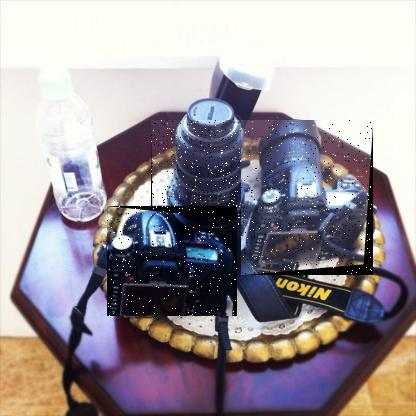Camera: (242, 121, 375, 277), (108, 207, 239, 318), (152, 121, 259, 228)
